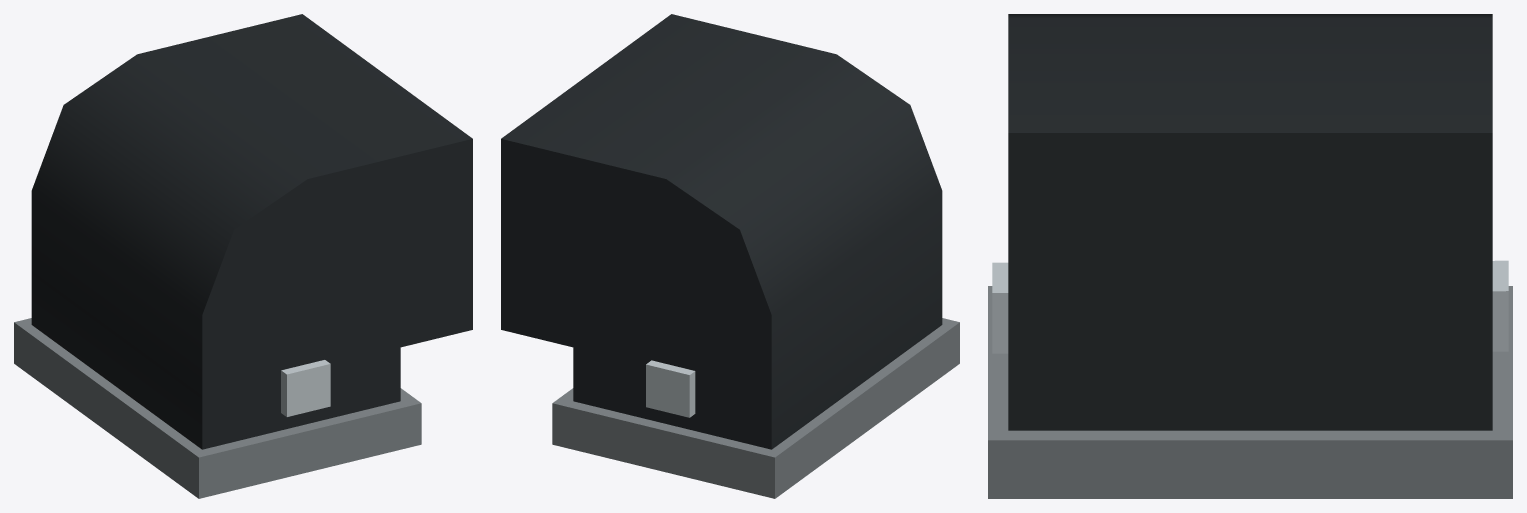
Rendered from Shoulder 03.FBX.
3 renders of one model, left to right at view 1: azimuth 30°, elevation 25°; view 2: azimuth 150°, elevation 25°; view 3: azimuth 270°, elevation 25°, orthographic. The views are drawn at different scales.
Visible parts, largest first — view 1: Shoulder 03; view 2: Shoulder 03; view 3: Shoulder 03.
Boxes of the visible parts, <box> form: Shoulder 03: <box>14,14,472,498</box>; Shoulder 03: <box>501,14,959,498</box>; Shoulder 03: <box>988,14,1512,498</box>.
Size of the model in its own units: 22.33 by 21.72 by 25.42.
1 material, 1 textured.
